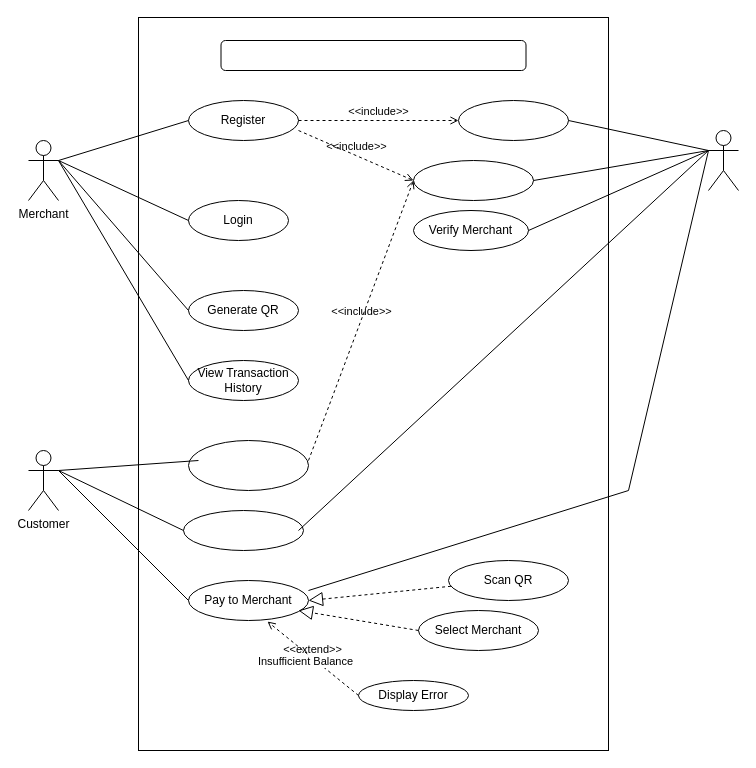
Some shapes in this 756 by 768 pixel diagram are drawn without their labels. Each missing label, with the centre of its shape:
"Add Account Details" goes at point (473, 180).
"Add Money to Wallet" goes at point (243, 530).
"Bank" goes at point (723, 160).
"Register with Mobile Number" goes at point (248, 465).
"Submit Document" goes at point (513, 120).
"Use Case for Mobile Wallet App" goes at point (373, 55).
